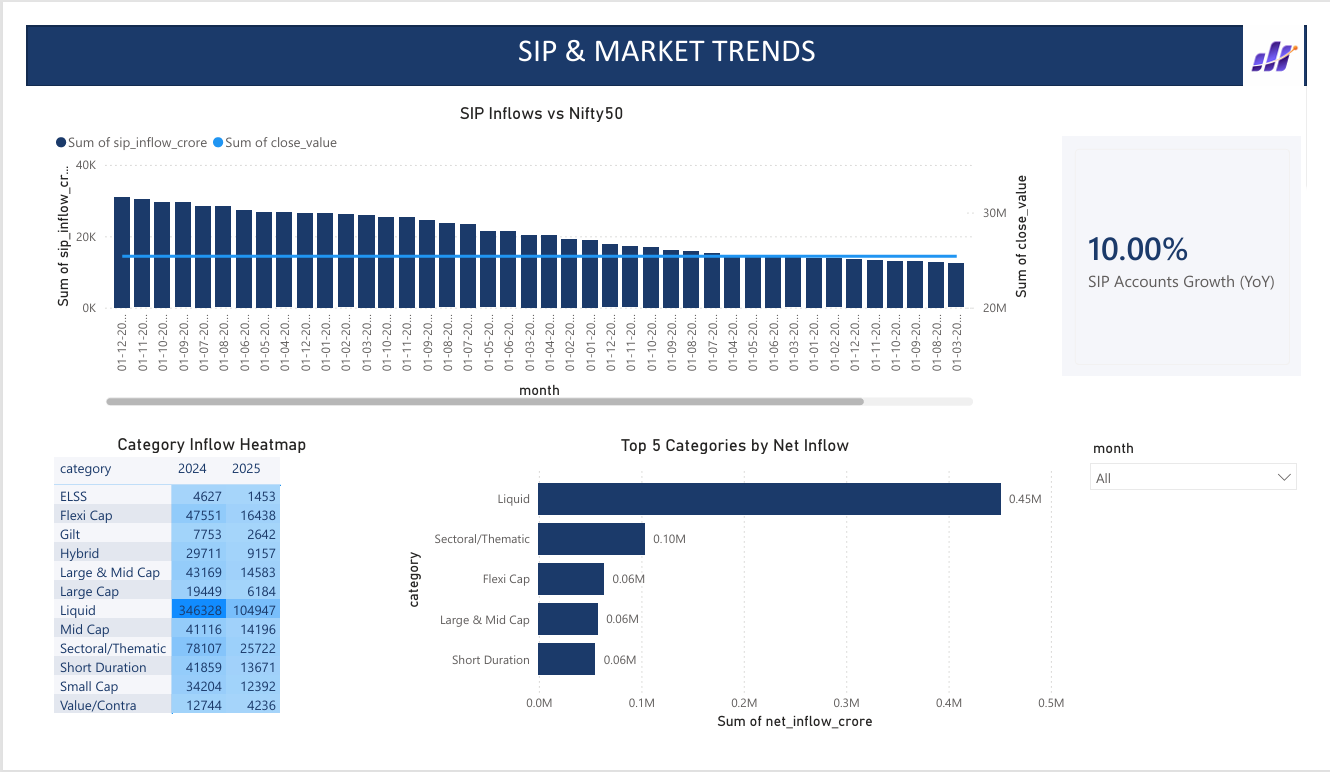

The dashboard page shown, as its layout file describes it:
{"tool":"powerbi","page":{"name":"SIP & MARKET TRENDS","canvas":[1280,720],"ordinal":3},"visuals":[{"type":"shape","box":[0,0,1280,60],"z":0},{"type":"textbox","box":[0,0,1280,60.5],"z":1000},{"type":"lineClusteredColumnComboChart","title":"SIP Inflows vs Nifty50","fields":{"Category":["04_monthly_sip_inflows_clean.month"],"Y":["Sum(04_monthly_sip_inflows_clean.sip_inflow_crore)"],"Y2":["Sum(10_benchmark_indices_clean.close_value)"]},"box":[23.5,77.1,982.9,308.3],"z":2000},{"type":"cardVisual","fields":{"Data":["_Measures.SIP Accounts Growth YoY"]},"box":[1030.9,106.1,249.1,250.2],"z":3000},{"type":"pivotTable","title":"Category Inflow Heatmap","fields":{"Rows":["05_category_inflows_clean.category"],"Columns":["05_category_inflows_clean.month.Variation.Date Hierarchy.Year","05_category_inflows_clean.month.Variation.Date Hierarchy.Quarter","05_category_inflows_clean.month.Variation.Date Hierarchy.Month","05_category_inflows_clean.month.Variation.Date Hierarchy.Day"],"Values":["Sum(05_category_inflows_clean.net_inflow_crore)"]},"box":[23,408.3,323.8,299.5],"z":4000},{"type":"clusteredBarChart","title":"Top 5 Categories by Net Inflow","fields":{"Category":["05_category_inflows_clean.category"],"Y":["Sum(05_category_inflows_clean.net_inflow_crore)"]},"box":[373.1,408.8,670.2,299.3],"z":5000},{"type":"slicer","fields":{"Values":["04_monthly_sip_inflows_clean.month"]},"box":[1053.3,408.8,226.7,69.2],"z":6000},{"type":"image","box":[1215,0,65,61],"z":7000}]}

Visuals, with their boxes on the page's 1280x720 design canvas (x1, y1, x2, y2). These are canvas units, not pixel positions in the 1330x772 screenshot, which may show the page scaled, cropped or inside an application window:
shape: locate(0, 0, 1280, 60)
textbox: locate(0, 0, 1280, 60)
"SIP Inflows vs Nifty50" lineClusteredColumnComboChart: locate(24, 77, 1006, 385)
cardVisual - _Measures.SIP Accounts Growth YoY: locate(1031, 106, 1280, 356)
"Category Inflow Heatmap" pivotTable: locate(23, 408, 347, 708)
"Top 5 Categories by Net Inflow" clusteredBarChart: locate(373, 409, 1043, 708)
slicer - 04_monthly_sip_inflows_clean.month: locate(1053, 409, 1280, 478)
image: locate(1215, 0, 1280, 61)
